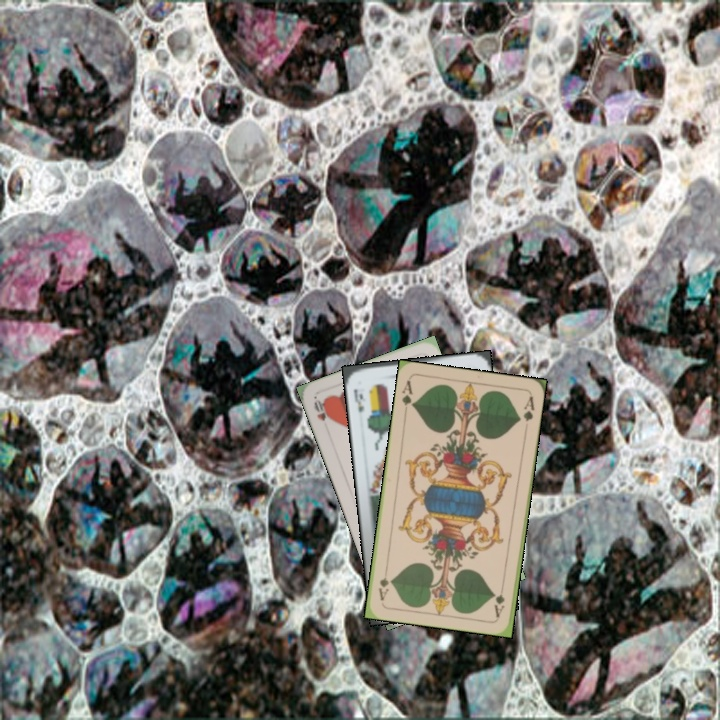EK: (349, 385, 367, 415)
GA: (398, 377, 417, 417), (491, 579, 507, 620)
HO: (310, 395, 332, 424)
